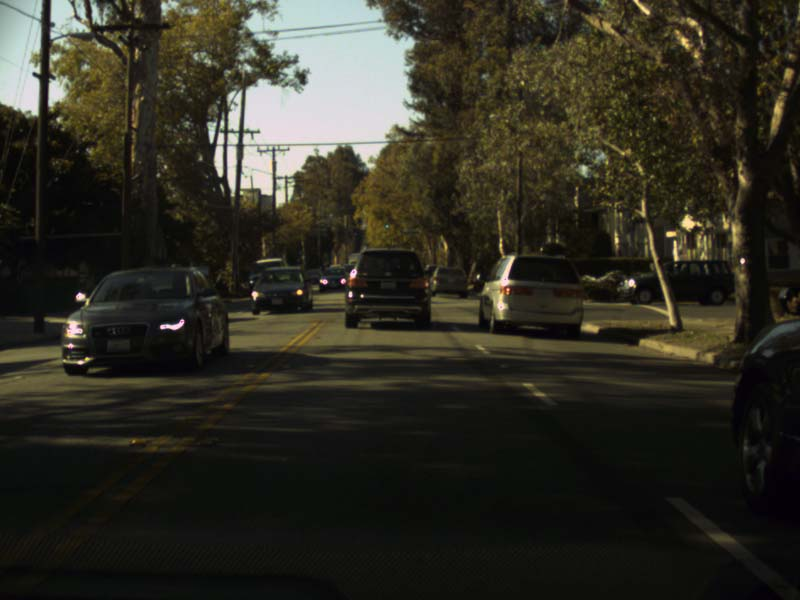Green: (383, 223, 389, 229)
